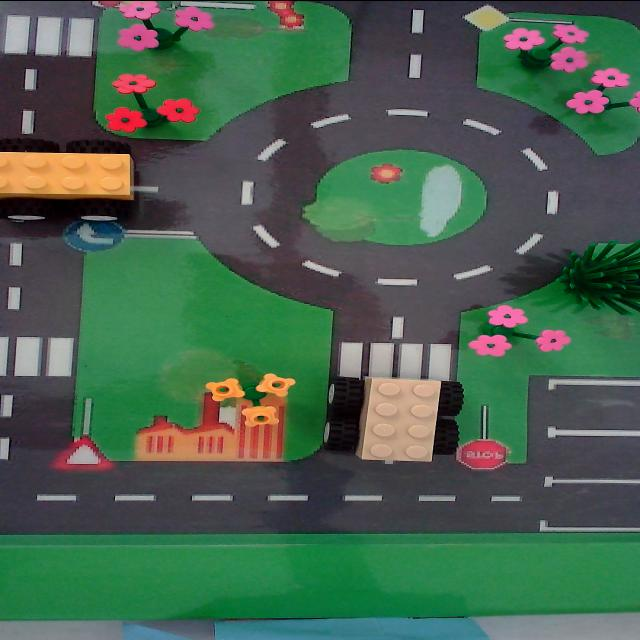Car: (306, 353, 478, 472), (0, 121, 149, 233)
Flower: (90, 64, 208, 158), (481, 7, 612, 84), (444, 290, 578, 362), (201, 357, 301, 451), (550, 58, 640, 143), (97, 0, 221, 57)
Tree: (530, 226, 640, 316)
